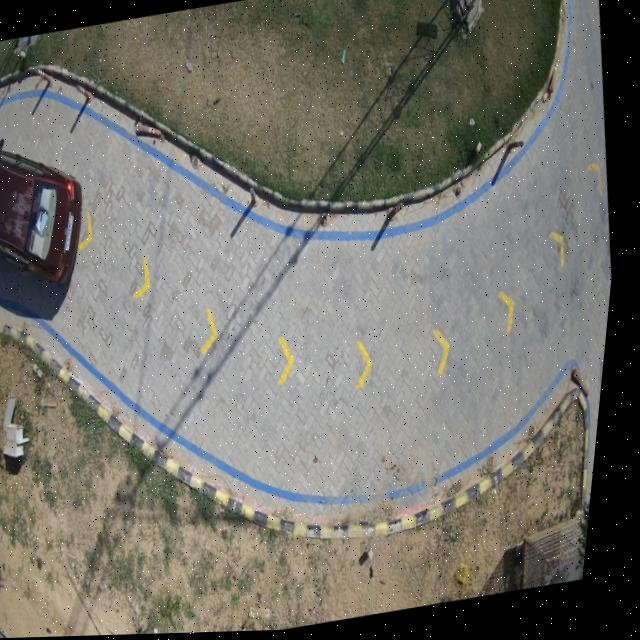car: (0, 138, 86, 284)
